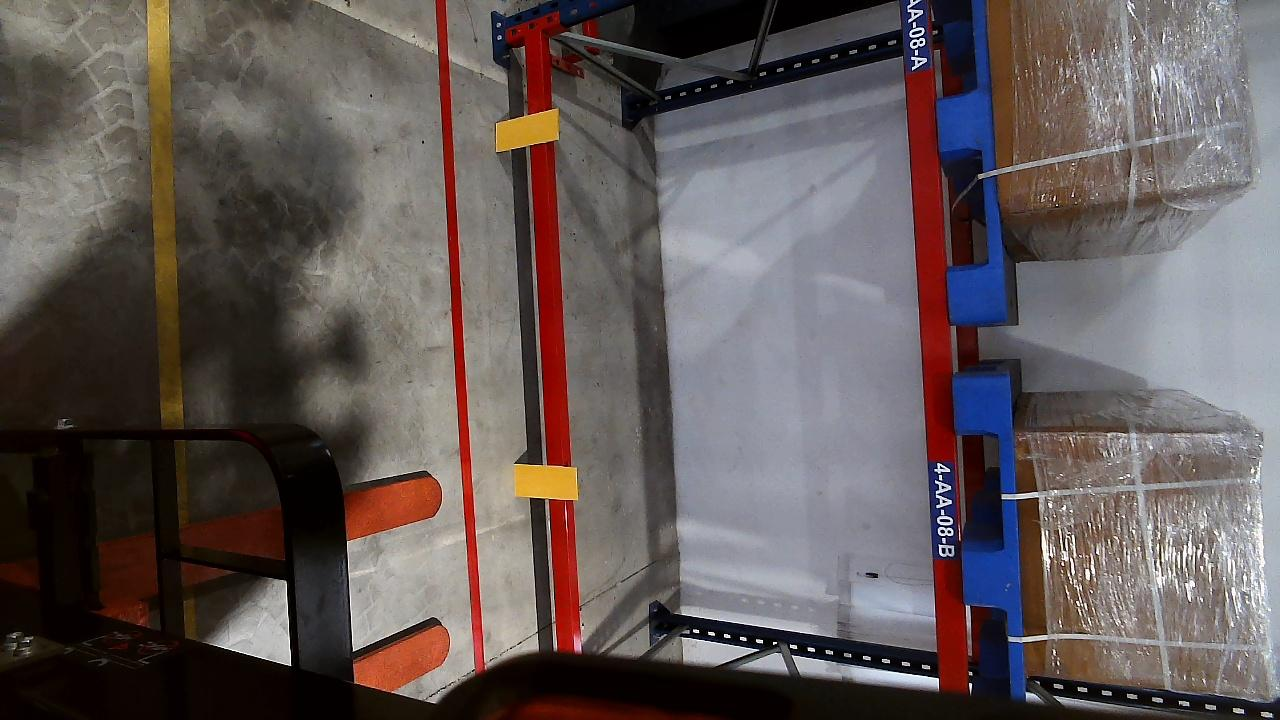h_rack: (907, 1, 963, 693), (526, 39, 575, 659)
orange_strip: (494, 109, 560, 151), (512, 463, 577, 499)
red_line: (435, 1, 489, 665)
small_pallet: (937, 0, 1013, 323), (955, 379, 1029, 698)
yellow_line: (142, 0, 184, 427)
